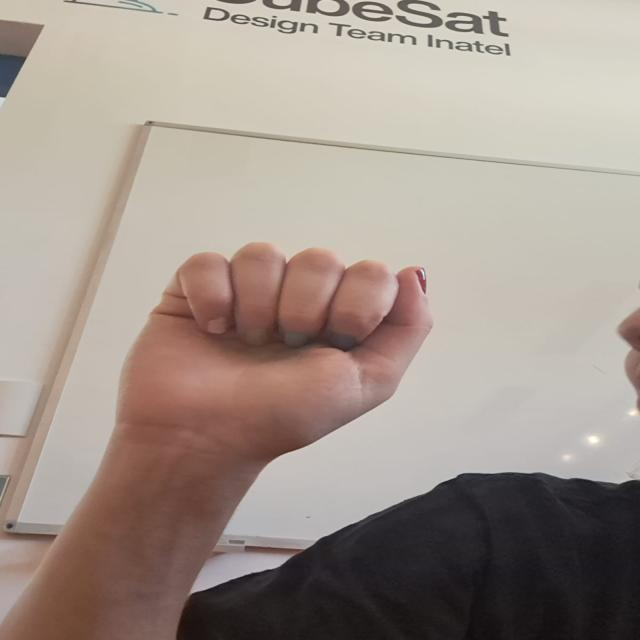A: (88, 234, 461, 474)
